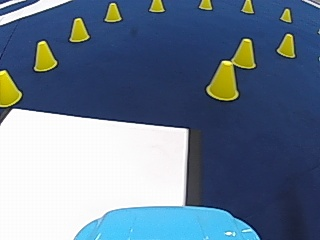cone: (206, 58, 239, 100), (32, 39, 57, 71), (0, 69, 21, 106), (231, 37, 256, 68), (68, 16, 89, 41), (276, 32, 296, 57), (103, 2, 121, 22), (148, 0, 164, 12), (279, 7, 291, 23), (240, 0, 254, 13), (199, 0, 212, 10)
